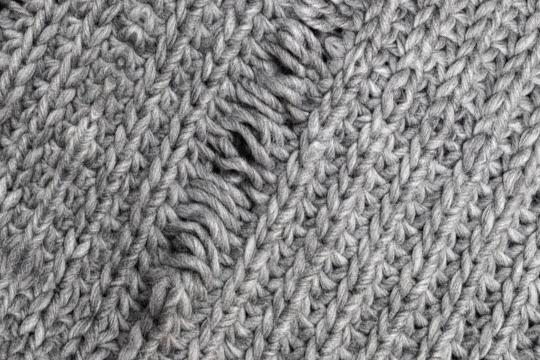slub: (157, 0, 366, 284)
